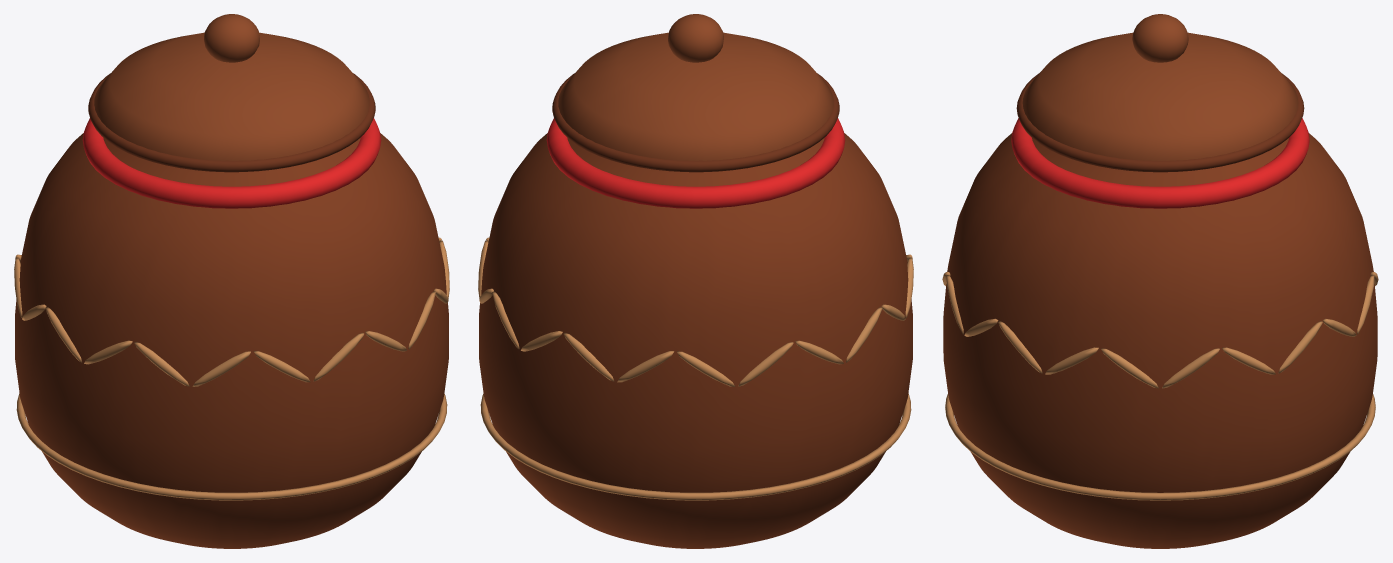
Rendered from d-kimchi.glb.
3 renders of one model, left to right at view 1: azimuth 30°, elevation 25°; view 2: azimuth 150°, elevation 25°; view 3: azimuth 270°, elevation 25°, orthographic.
Parts seen in each view (by area): view 1: d-kimchi; view 2: d-kimchi; view 3: d-kimchi.
Boxes of the visible parts, left/top/right/bottom form: d-kimchi: left=14, top=14, right=449, bottom=548; d-kimchi: left=478, top=14, right=913, bottom=548; d-kimchi: left=942, top=14, right=1378, bottom=548.
Size of the model in its own units: 0.0951 by 0.12 by 0.0954.
